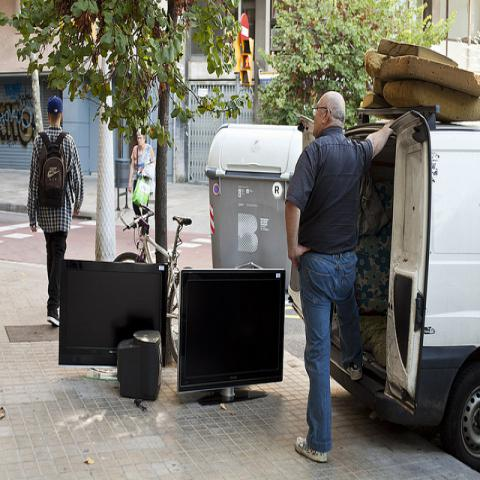truck: (333, 123, 479, 471)
